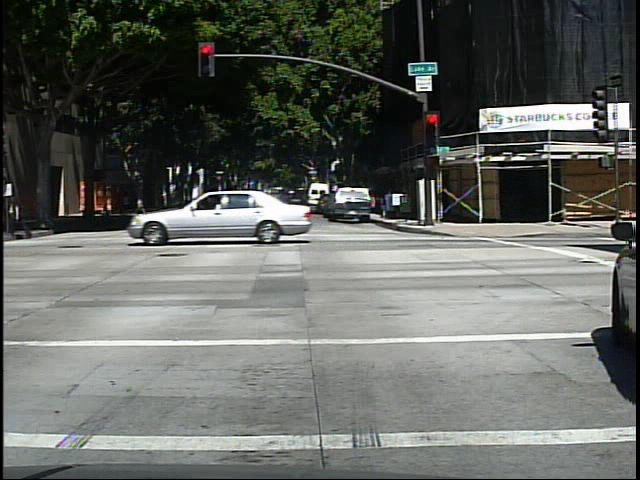person: (6, 189, 36, 242)
